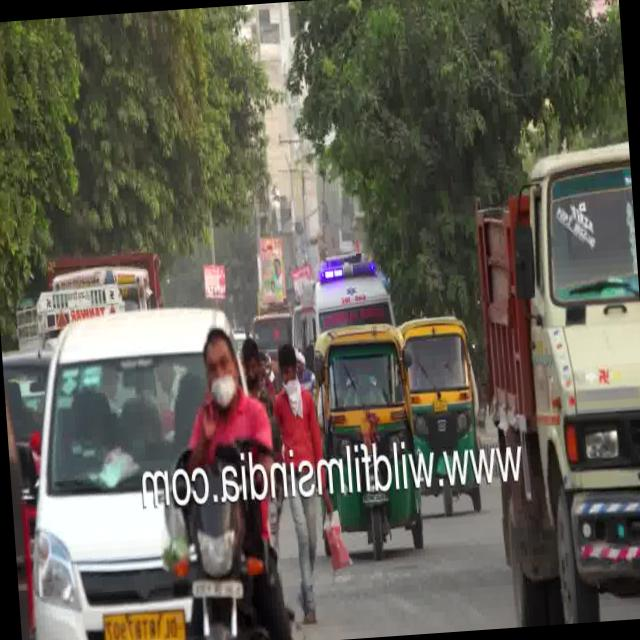ambulance: (306, 250, 392, 330)
